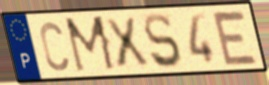4: (187, 12, 217, 67)
C: (38, 19, 70, 73)
E: (210, 10, 261, 67)
M: (62, 14, 119, 75)
S: (142, 11, 184, 70)
X: (101, 16, 152, 70)
